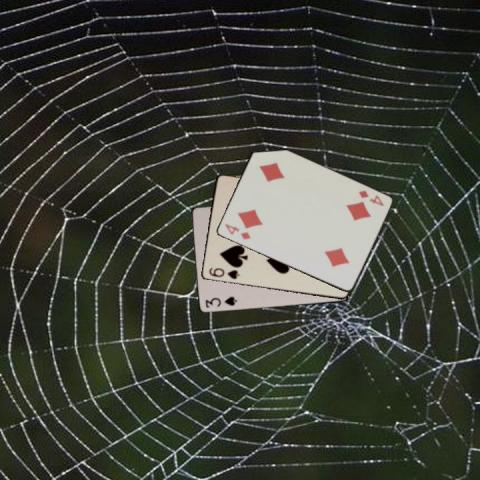3s: (202, 294, 237, 309)
4d: (222, 222, 252, 242), (355, 188, 385, 207)
6s: (205, 264, 241, 281)
